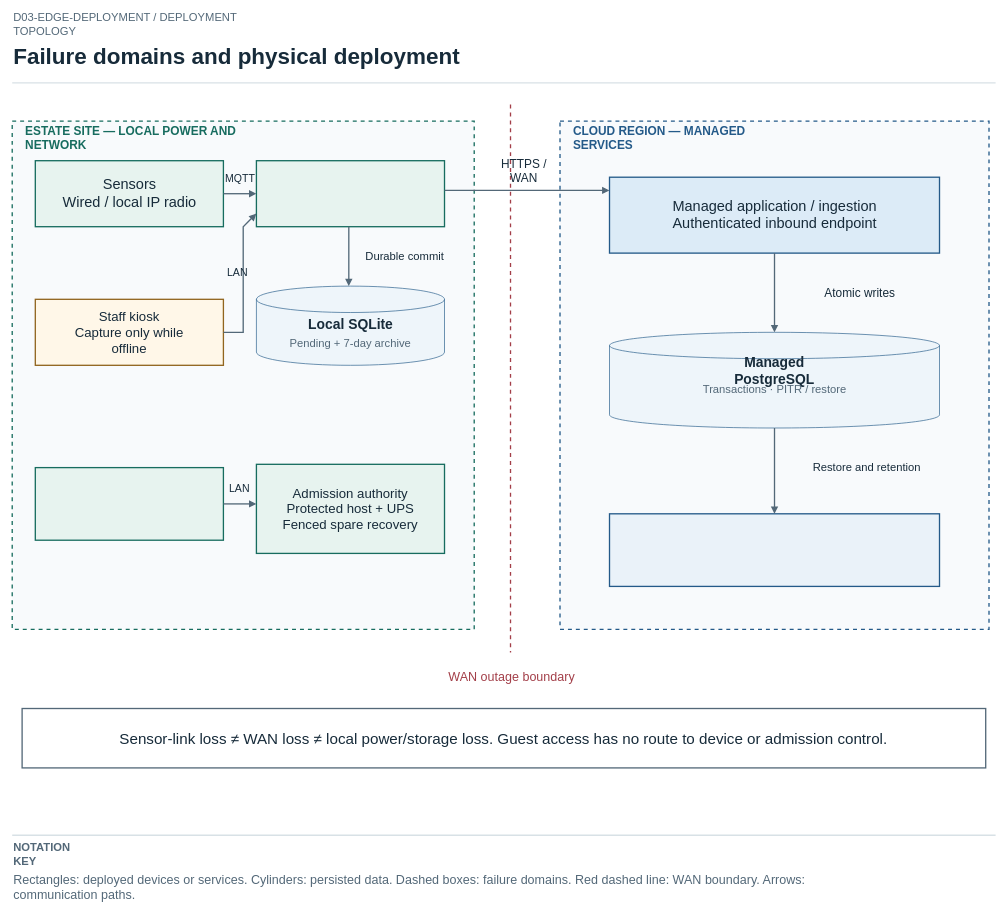
This 1008x916 diagram has some shape labels left out. The shapes that lost their labels are listed below. From the top down, each one's box as (x1, y1, x2, y2) in pixels, then its label:
(255, 160, 445, 227): Gateway Broker + edge runtime
(34, 467, 224, 541): Gate validators Provisioned admission LAN
(609, 513, 940, 587): Object storage and backups Controlled access and retention
